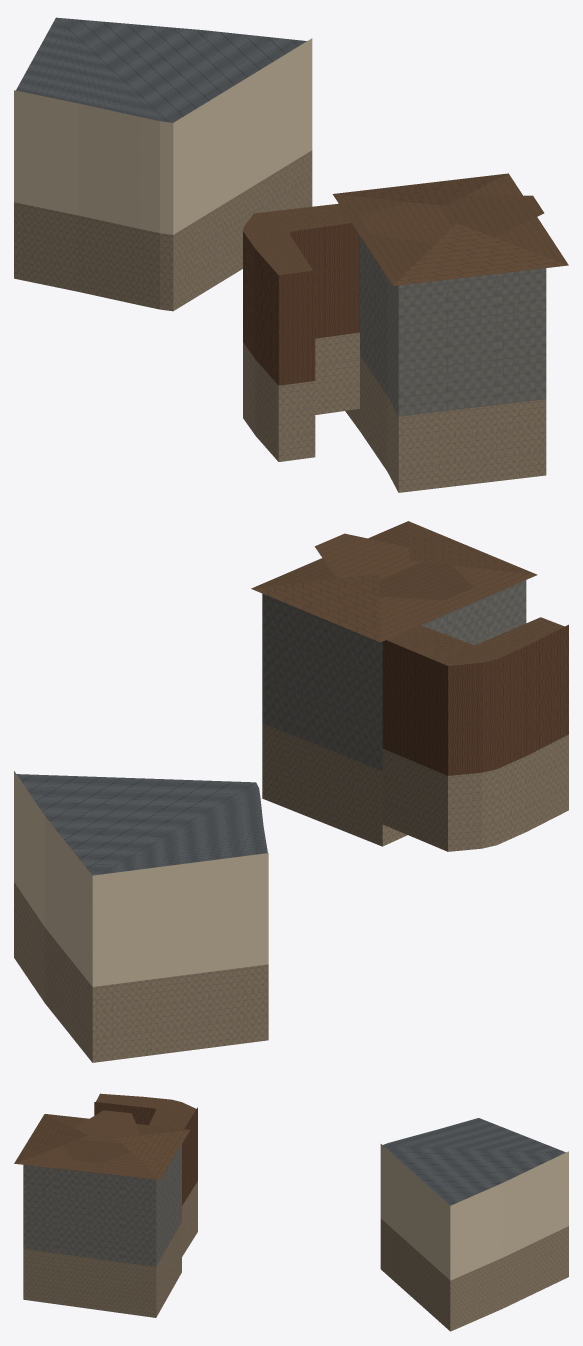
Rendered from bld_c28_-54_554.gltf.
3 views of the same model, one above another, from view 1: azimuth 30°, elevation 25°; view 2: azimuth 150°, elevation 25°; view 3: azimuth 270°, elevation 25° (orthographic). The views are drawn at different scales.
Visible parts, largest first — view 1: bld_c28_-54_554; view 2: bld_c28_-54_554; view 3: bld_c28_-54_554.
Boxes of the visible parts, box(x1,y1,x2,y2) form: bld_c28_-54_554: box(14, 17, 568, 492); bld_c28_-54_554: box(14, 521, 568, 1062); bld_c28_-54_554: box(14, 1093, 568, 1331).
Bounding box in the file's own units: 20.68 × 15.5 × 50.27.
Materials: 8 (8 with a texture image).
